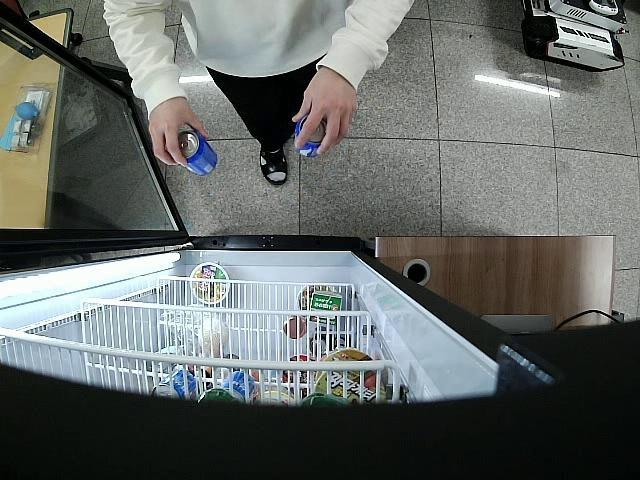13_pocariSweat: (176, 134, 218, 180), (294, 116, 326, 161)
